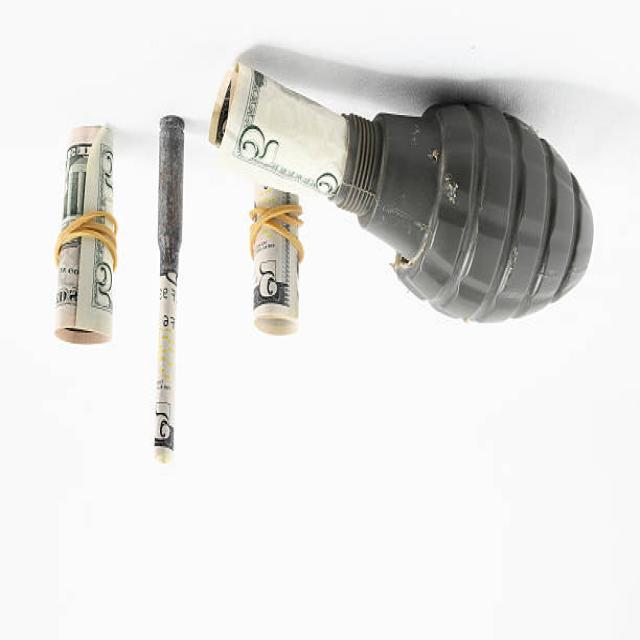grenade: (334, 85, 597, 336)
